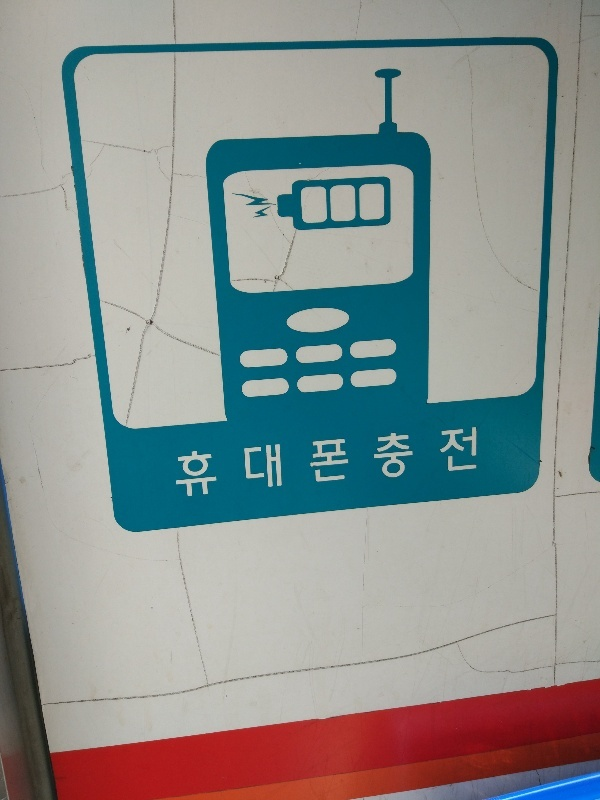text: (177, 424, 192, 503), (193, 424, 208, 503), (209, 424, 224, 503), (225, 424, 240, 503), (241, 424, 256, 503), (257, 424, 272, 503), (273, 424, 288, 503), (289, 424, 304, 503), (305, 424, 320, 503), (321, 424, 336, 503), (337, 424, 352, 503), (353, 424, 368, 503), (369, 424, 384, 503), (385, 424, 400, 503), (401, 424, 416, 503), (417, 424, 432, 503), (433, 424, 448, 503), (449, 424, 464, 503), (465, 424, 479, 503), (174, 424, 176, 503)
